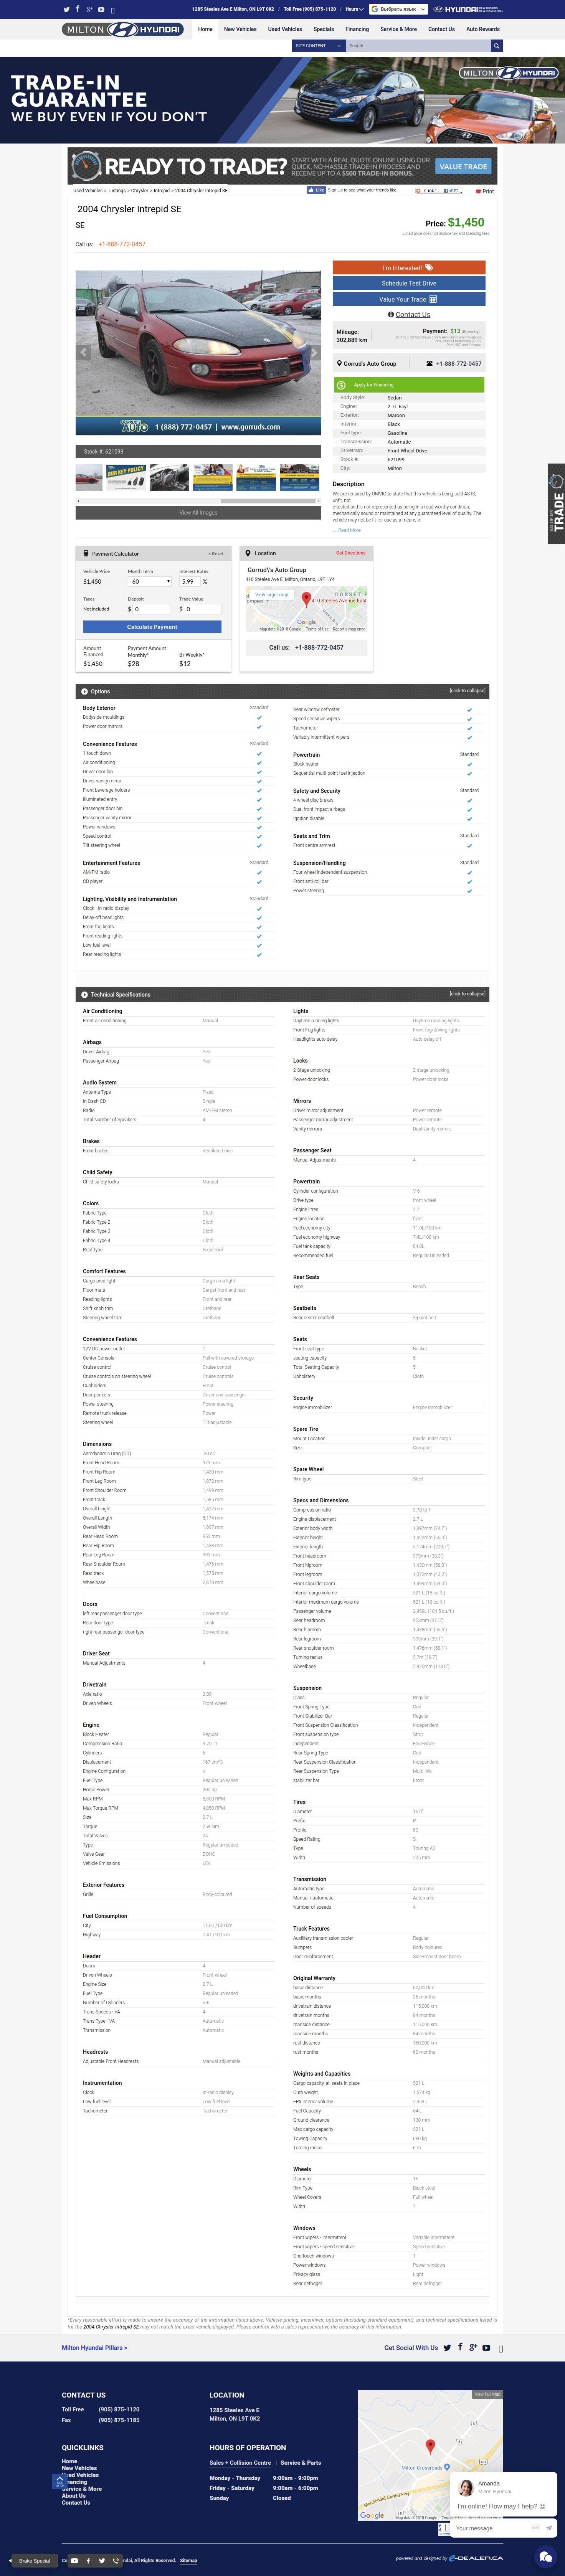car: (315, 498, 322, 504)
